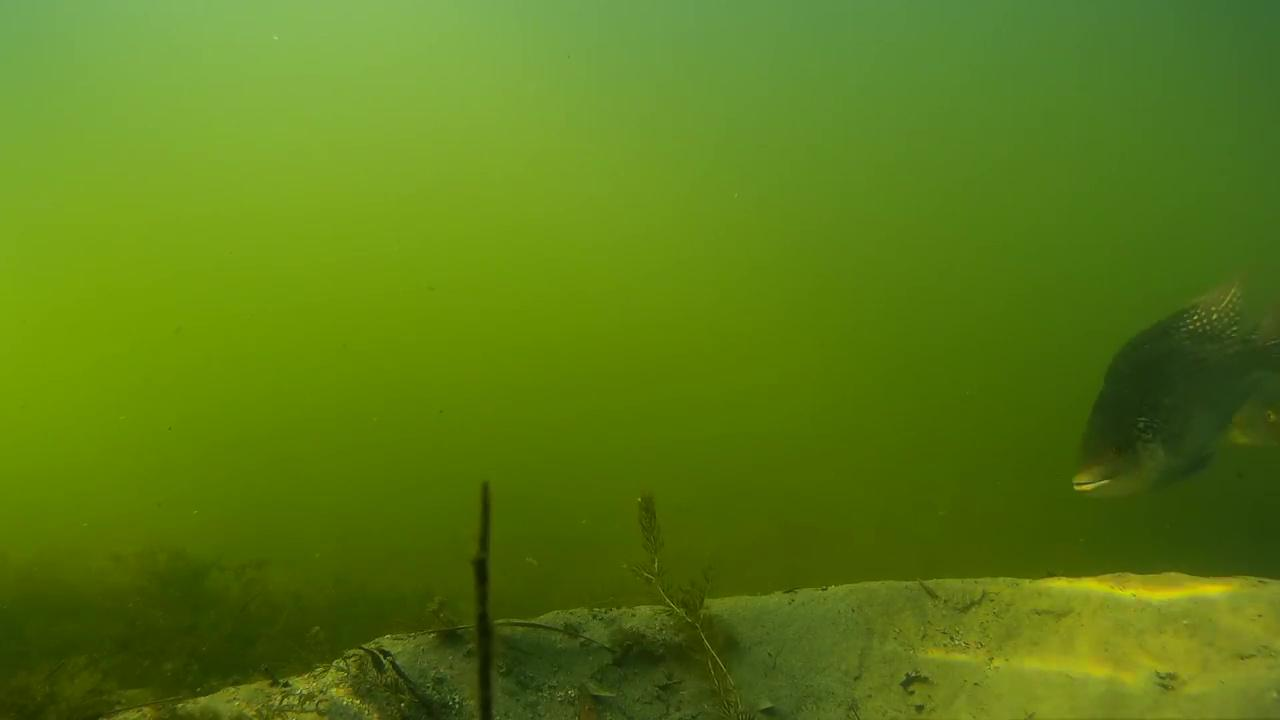Tilapia: (1071, 284, 1280, 506)
